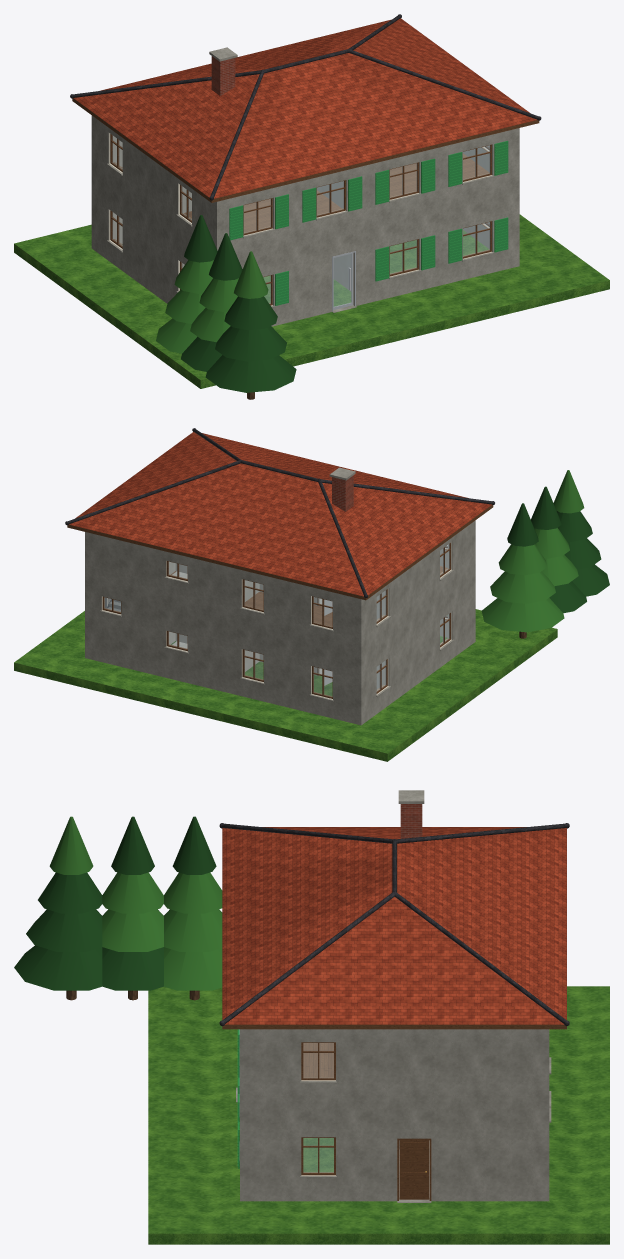
File: b_tuscan_farmhouse.gltf
The picture shows the model from 3 angles, top to bottom: view 1: azimuth 30°, elevation 25°; view 2: azimuth 150°, elevation 25°; view 3: azimuth 270°, elevation 25°; orthographic projection. The views are drawn at different scales.
Visible parts, largest first — view 1: S_tuscan_farmhouse, D_tuscan_farmhouse_F1_S3_Door0; view 2: S_tuscan_farmhouse; view 3: S_tuscan_farmhouse, D_tuscan_farmhouse_F1_E1_Door0.
Boxes of the visible parts, left/top/right/bottom form: S_tuscan_farmhouse: left=14, top=14, right=609, bottom=399; D_tuscan_farmhouse_F1_S3_Door0: left=333, top=253, right=353, bottom=309; S_tuscan_farmhouse: left=14, top=428, right=609, bottom=761; S_tuscan_farmhouse: left=14, top=790, right=609, bottom=1244; D_tuscan_farmhouse_F1_E1_Door0: left=399, top=1140, right=429, bottom=1199.
Size of the model in its own units: 19.88 by 10.04 by 19.37.
Materials: 24 (14 with a texture image).
